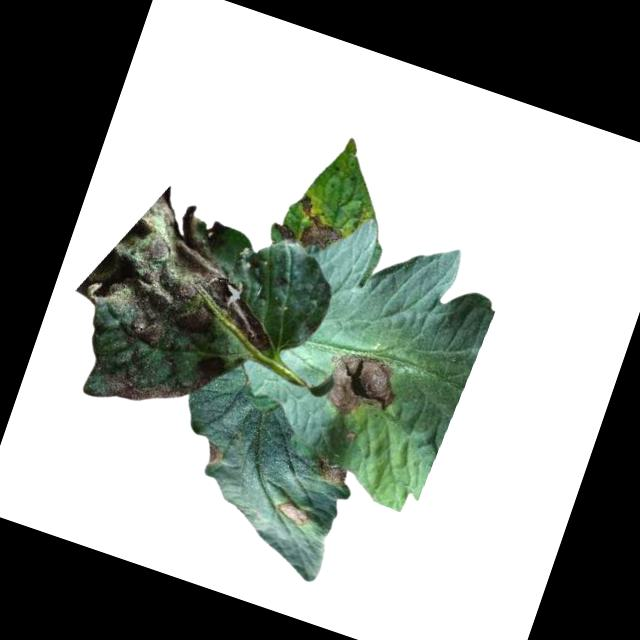Early_blight: (47, 170, 308, 447), (316, 342, 404, 429), (286, 192, 353, 259), (307, 456, 349, 491), (273, 500, 312, 531), (197, 438, 228, 471), (269, 220, 300, 247)
